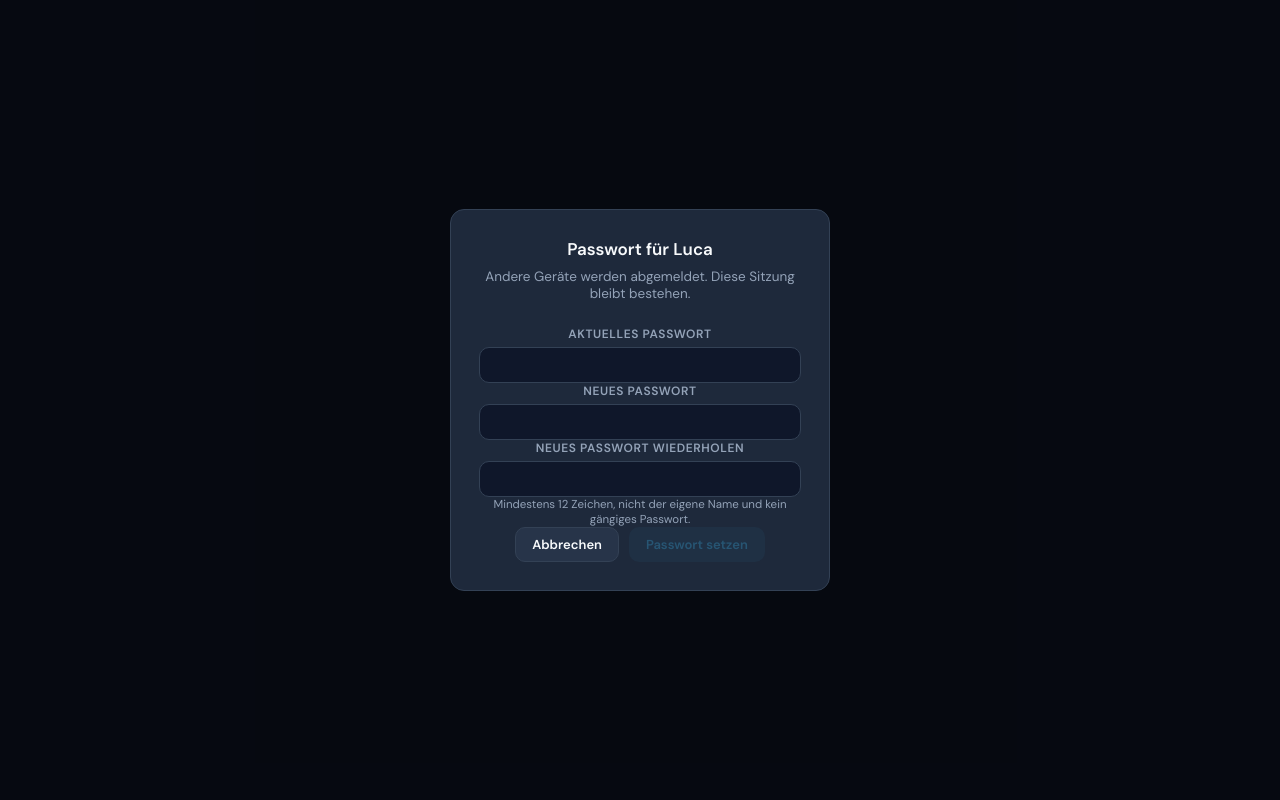
Test: PasswordDialog — rohe Fehlercodes › übersetzt ein falsches aktuelles Passwort
Type "alt-alt-alt-alt" into the password field labelled "Aktuelles Passwort" at {"x": 640, "y": 365}, box 479,347 -> 801,383
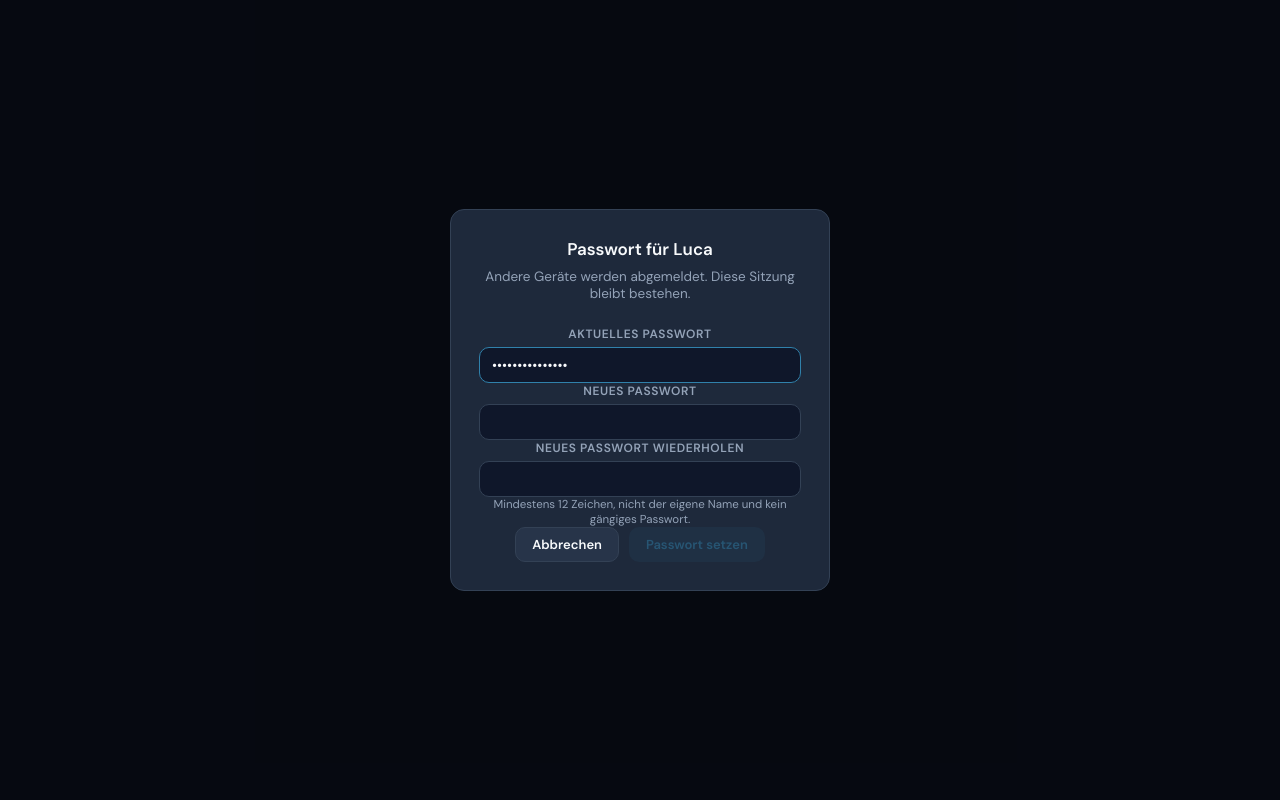
Type "Baustelle-Winterthur-42" into the password field labelled "Neues Passwort" at {"x": 640, "y": 422}, box 479,404 -> 801,440
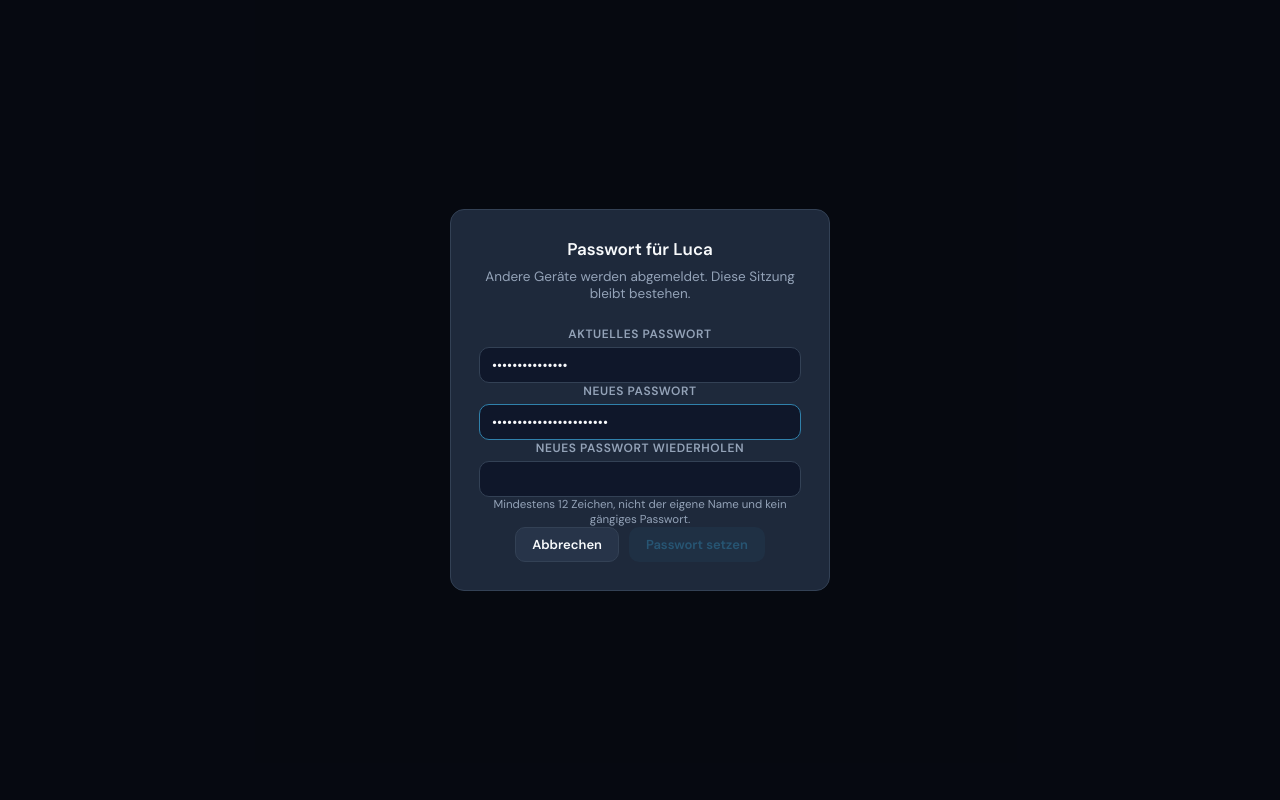
Type "Baustelle-Winterthur-42" into the password field labelled "Neues Passwort wiederholen" at {"x": 640, "y": 479}, box 479,461 -> 801,497
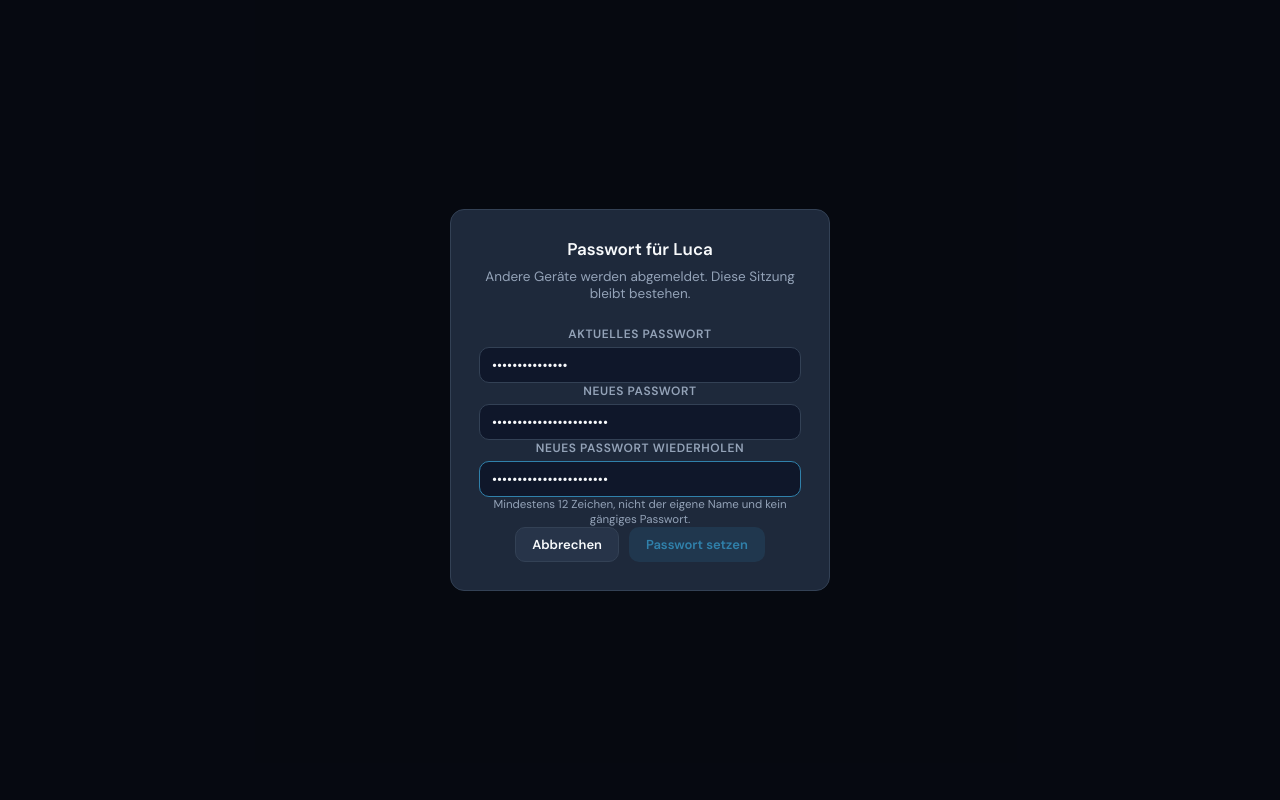
Click the button "Passwort setzen" at {"x": 697, "y": 544}, box 629,527 -> 765,562
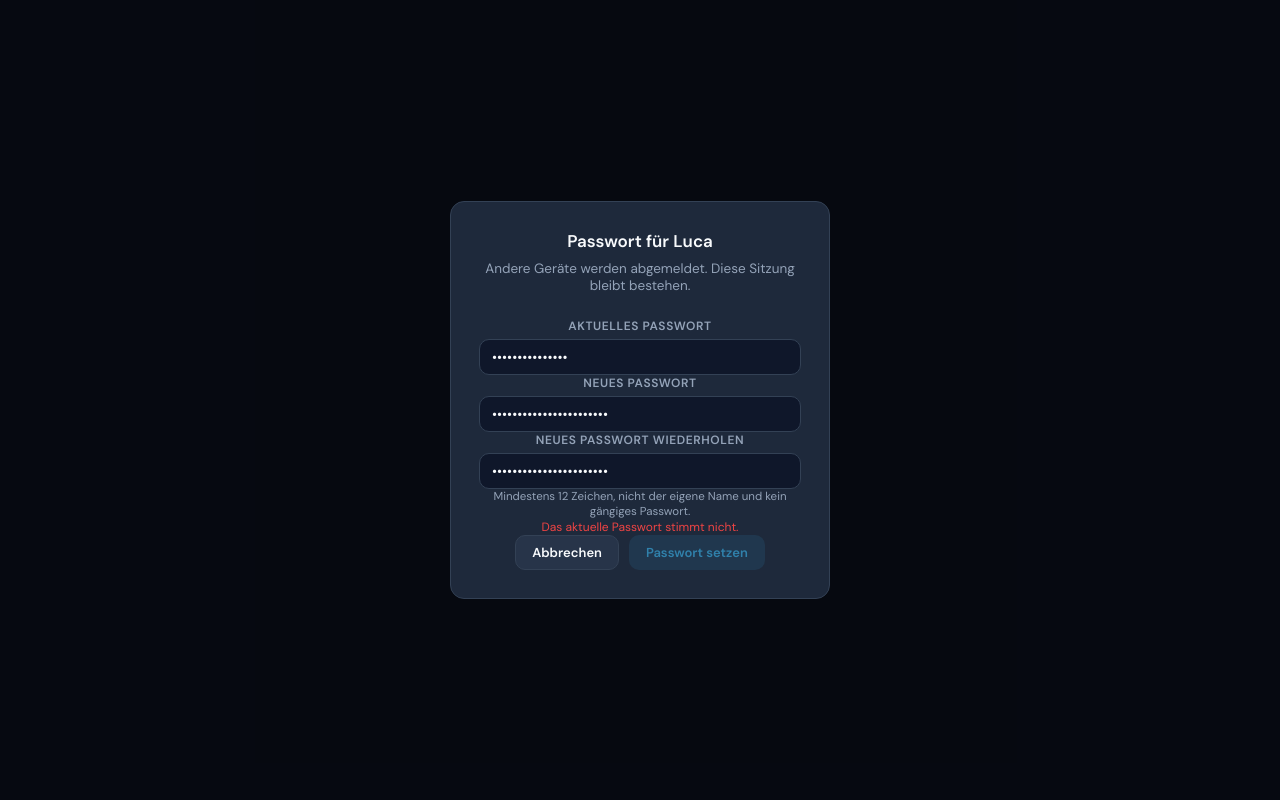
Check: the text "Das aktuelle Passwort stimmt nicht." is shown, box 542,519 -> 738,535
